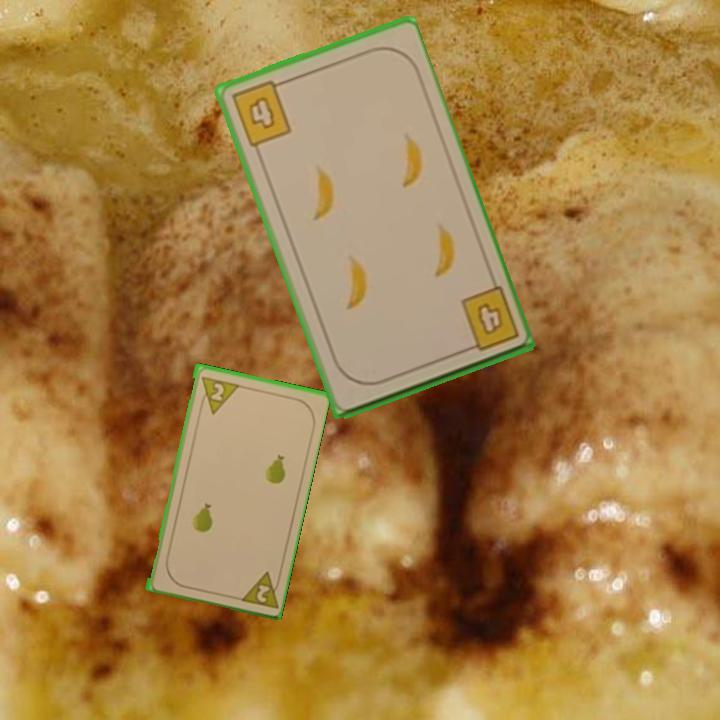2p: (235, 567, 284, 611), (197, 372, 240, 416)
4b: (227, 76, 294, 150), (456, 283, 522, 355)
